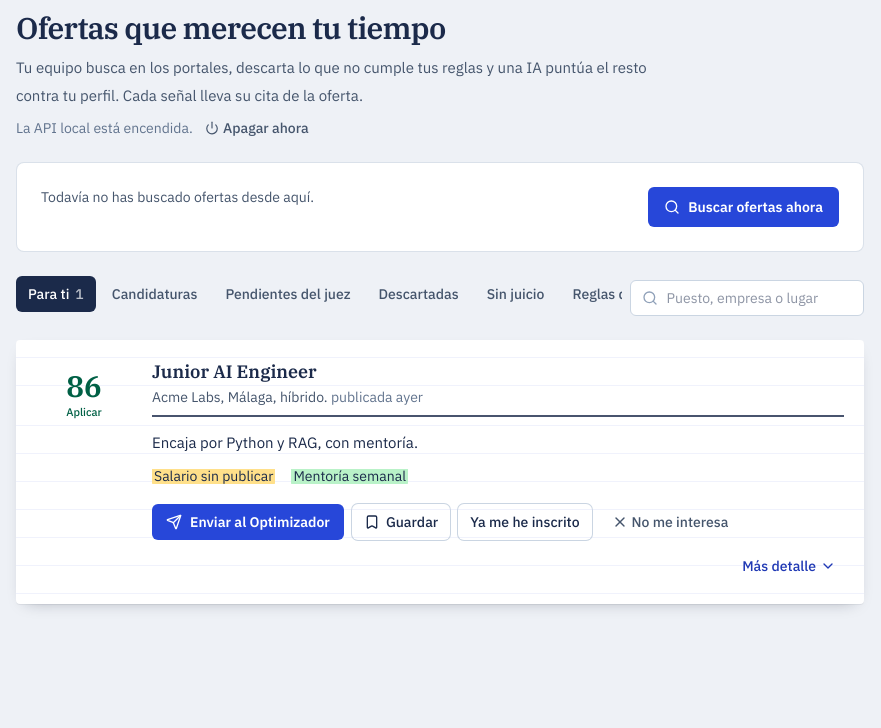
Scenario: HunterView › el detalle muestra las citas y marca las no verificables
Step 1. Click the button "Más detalle" → x=789, y=566, box [734,548,844,584]
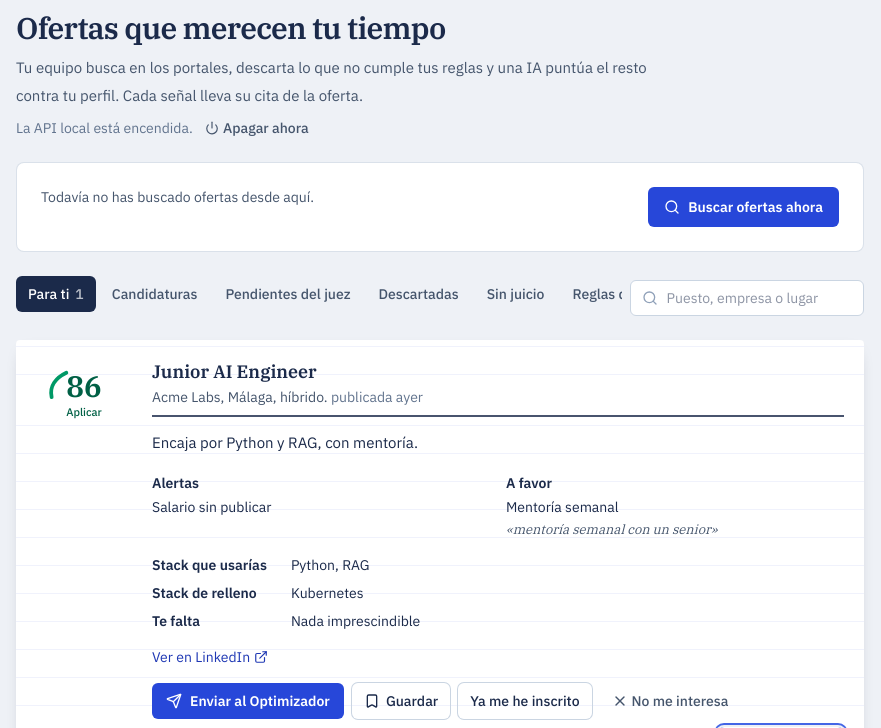
Expected: the text "«mentoría semanal con un senior»" is shown, [506,521,718,538]
Expected: the text "Kubernetes" is shown, [291,584,364,602]
